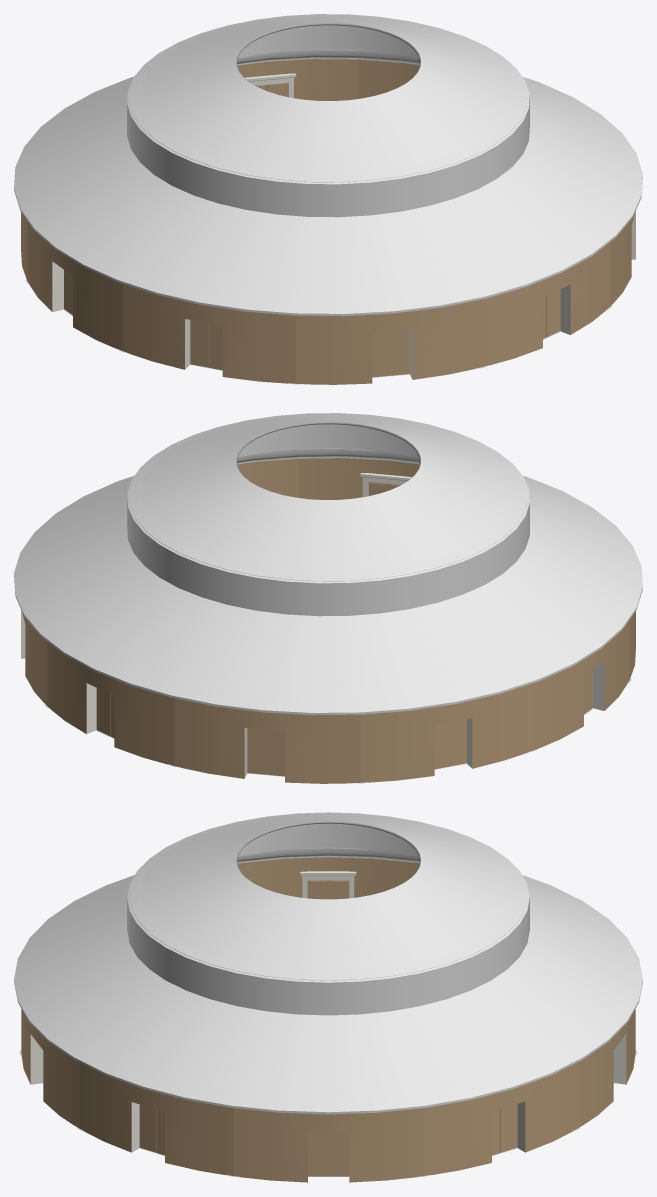
File: T_root_dark_B.glb
3 renders of one model, top to bottom at view 1: azimuth 30°, elevation 25°; view 2: azimuth 150°, elevation 25°; view 3: azimuth 270°, elevation 25°, orthographic.
Parts seen in each view (by area): view 1: Circle.001, Circle, doors; view 2: Circle.001, Circle, doors; view 3: Circle.001, Circle, doors.
Part boxes in pixels (box(x1,y1,x2,y2)): Circle.001: box(14, 14, 642, 316); Circle: box(21, 22, 634, 384); doors: box(52, 73, 635, 379); Circle.001: box(14, 413, 642, 715); Circle: box(22, 421, 635, 783); doors: box(21, 473, 604, 777); Circle.001: box(14, 812, 642, 1114); Circle: box(21, 821, 635, 1182); doors: box(30, 871, 626, 1176).
Bounding box in the file's own units: 31.24 × 10.56 × 31.24.
